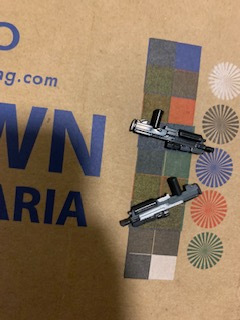rifle: (119, 174, 204, 232), (128, 107, 214, 161)
